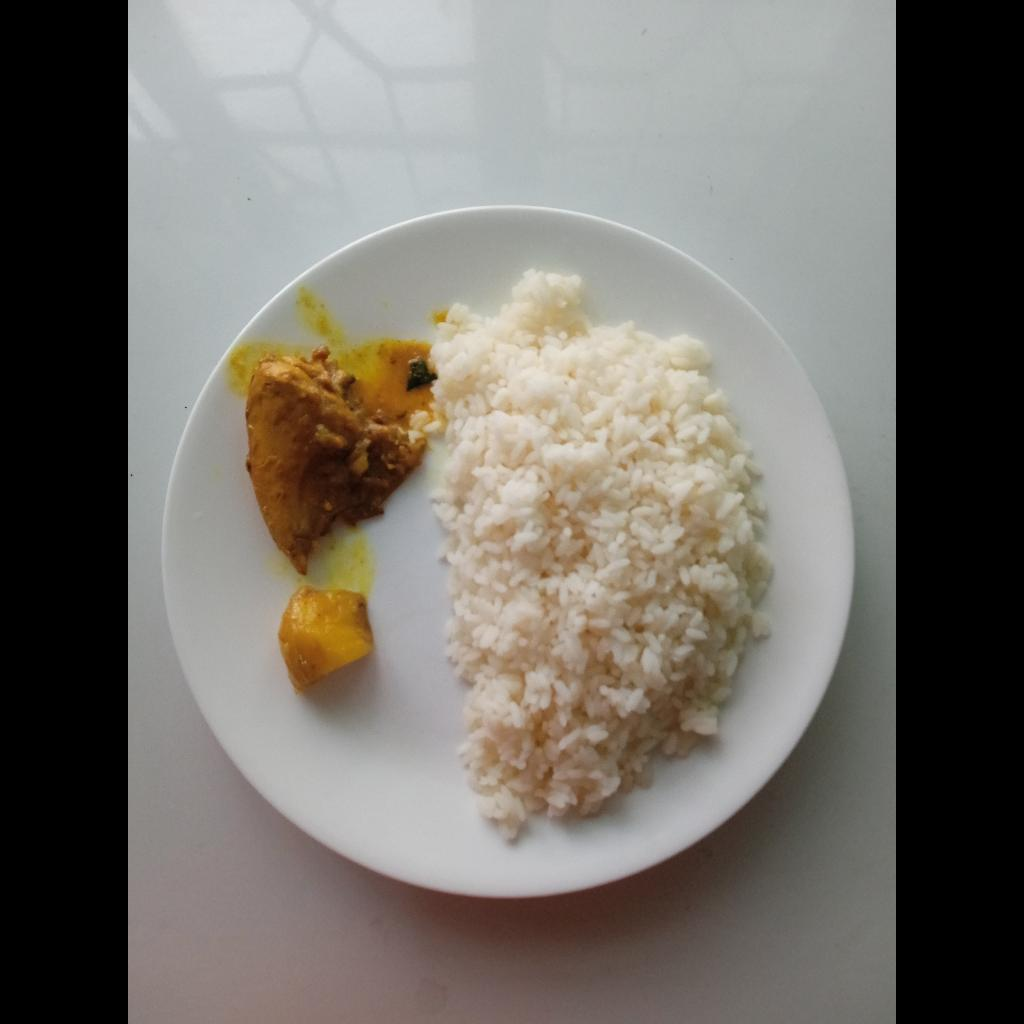chicken: (236, 361, 423, 569)
potato: (278, 594, 370, 678)
rice: (429, 277, 774, 843)
